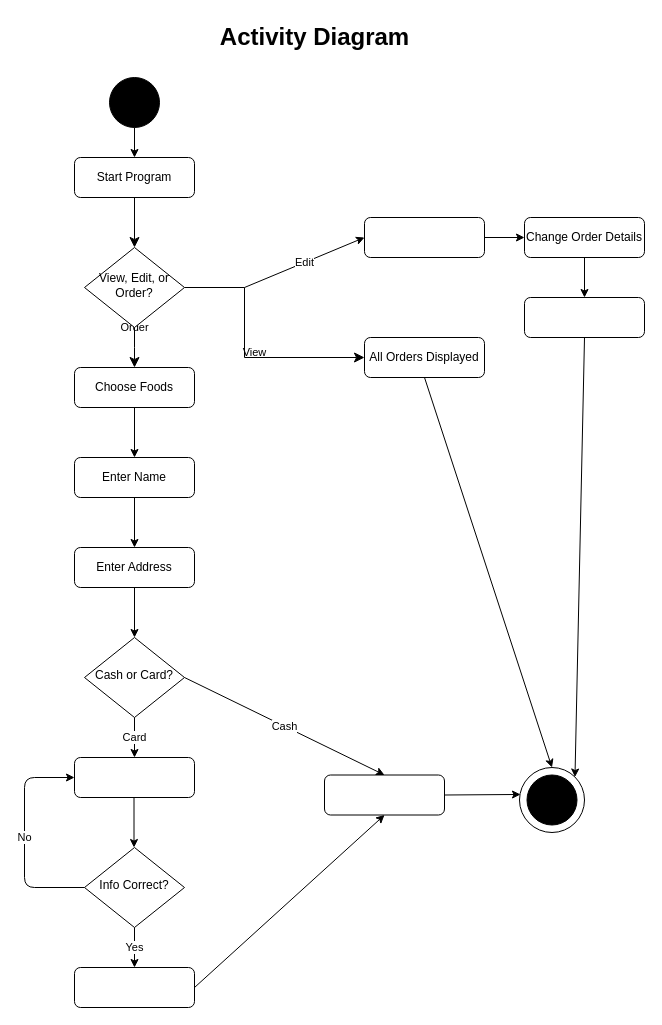
The diagram is 662 pixels wide and 1025 high, and some of its shapes have lost their labels. The shapes that lost their labels are listed below. From the top down, each one's box as (x1, y1, x2, y2) in pixels, then its label:
(364, 216, 484, 258): Input Order Number
(524, 296, 644, 338): Changed Details Saved
(74, 756, 194, 798): Enter Card Information
(324, 774, 444, 815): Order Sent to cooks
(74, 966, 194, 1008): Card Charged
